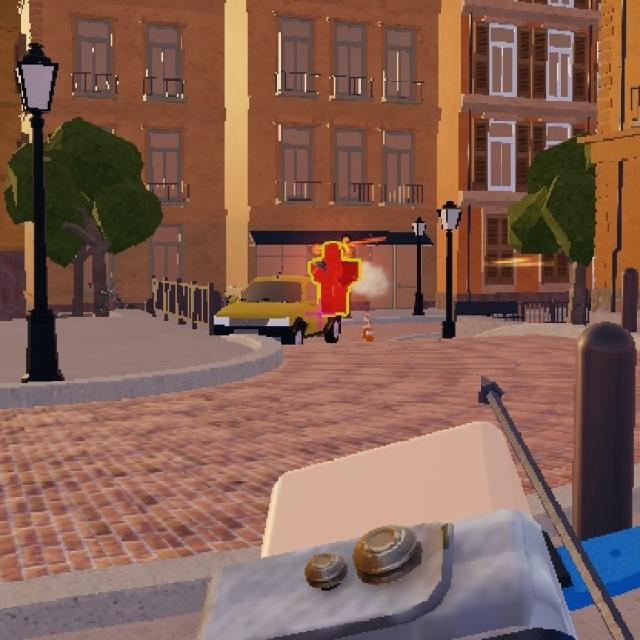player: (310, 231, 356, 328)
